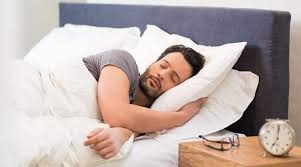sleeping: (1, 43, 208, 160)
